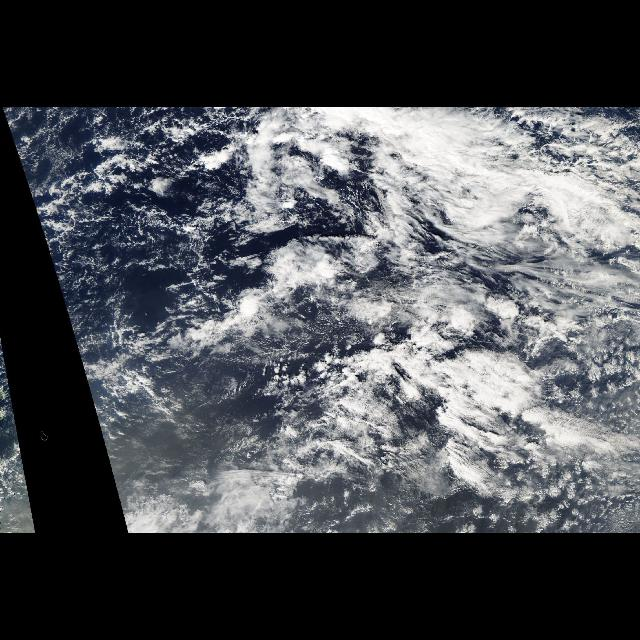Gravel: (3, 110, 237, 258)
